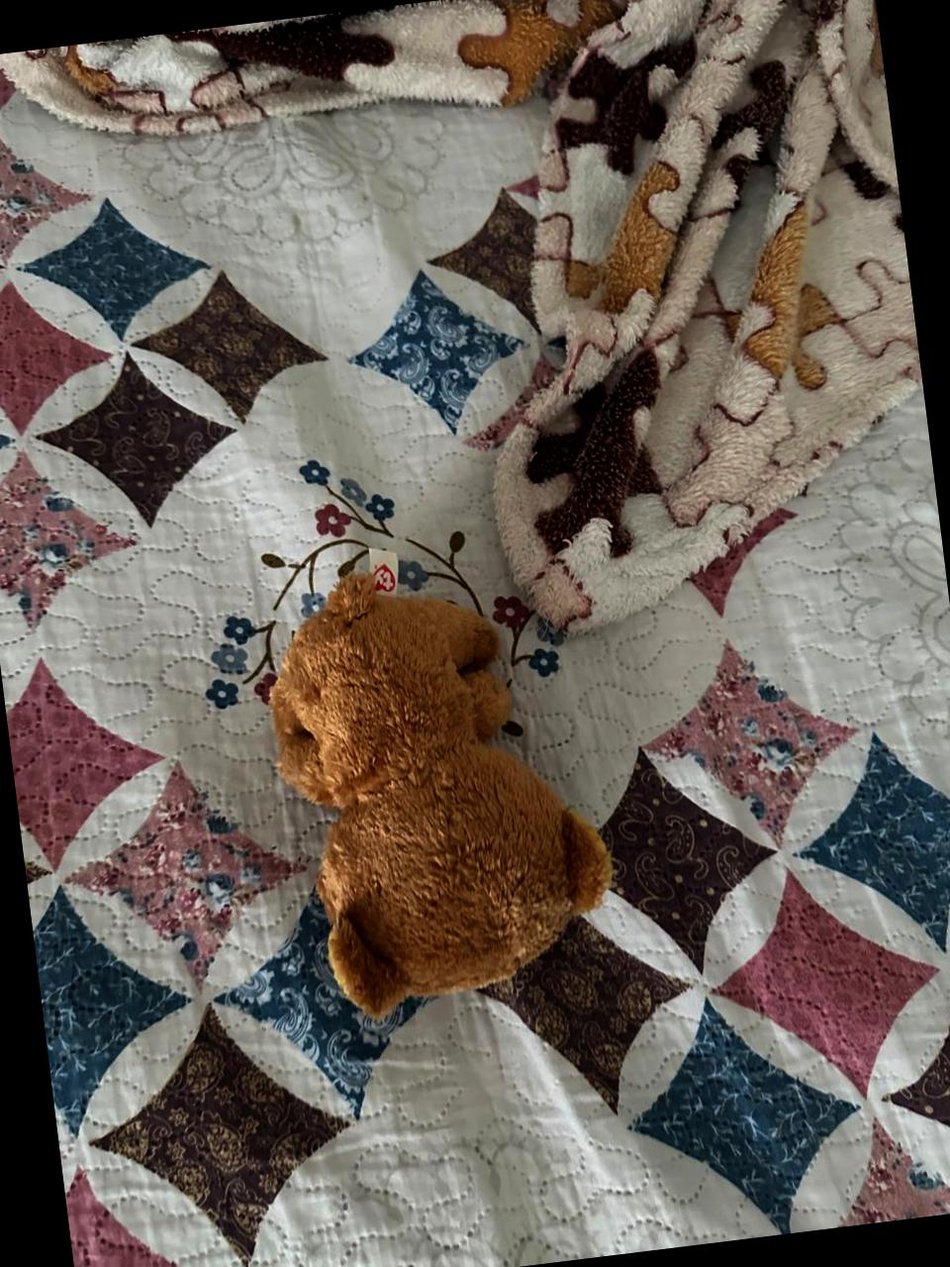peluche_sebastian: (247, 544, 626, 1031)
